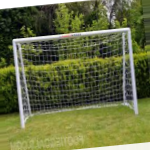goals: (12, 24, 142, 135)
